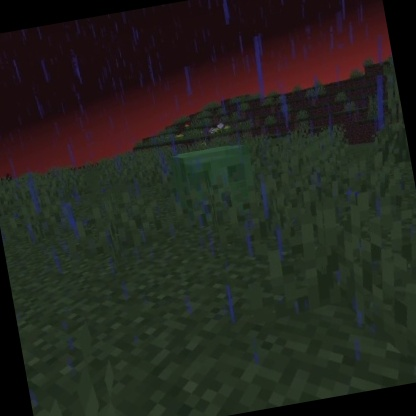slime: (167, 138, 262, 216)
